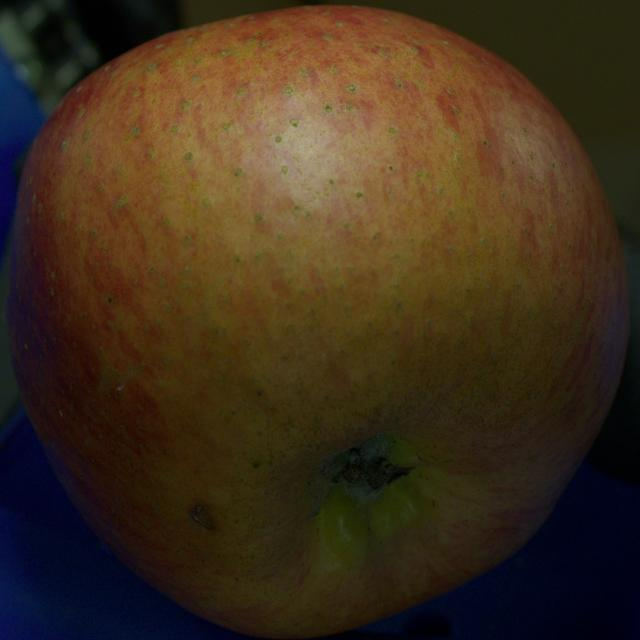apple: (7, 6, 629, 638)
pest: (189, 506, 214, 529)
